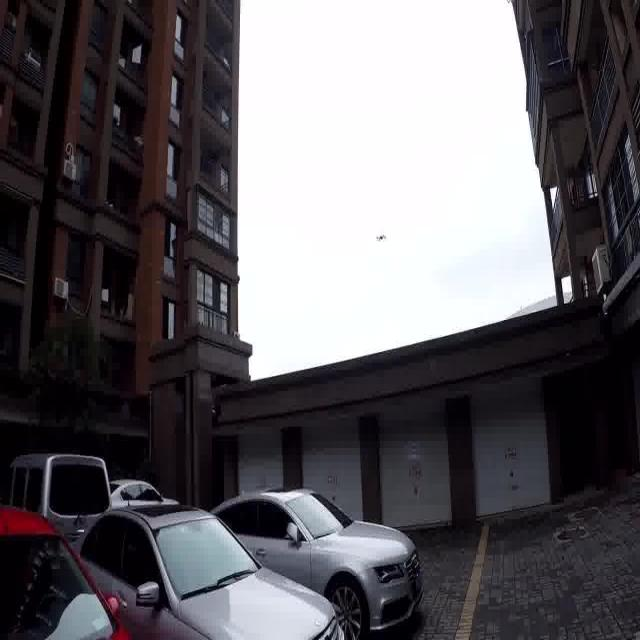drone: (374, 230, 388, 243)
